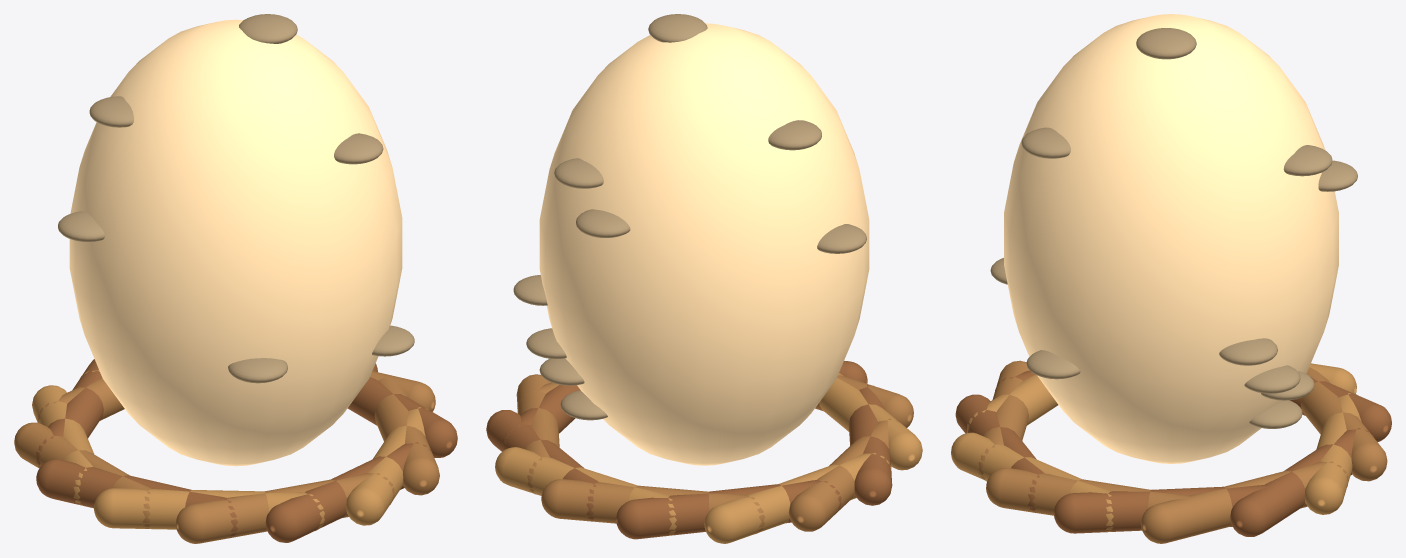
The model's file is huevo.glb.
3 views of the same model, side by side, from view 1: azimuth 30°, elevation 25°; view 2: azimuth 150°, elevation 25°; view 3: azimuth 270°, elevation 25° (orthographic).
Parts seen in each view (by area): view 1: huevo; view 2: huevo; view 3: huevo.
Boxes of the visible parts, left/top/right/bottom form: huevo: left=14, top=14, right=457, bottom=543; huevo: left=486, top=14, right=922, bottom=543; huevo: left=951, top=14, right=1391, bottom=543.
Size of the model in its own units: 0.2646 by 0.2851 by 0.2613.
